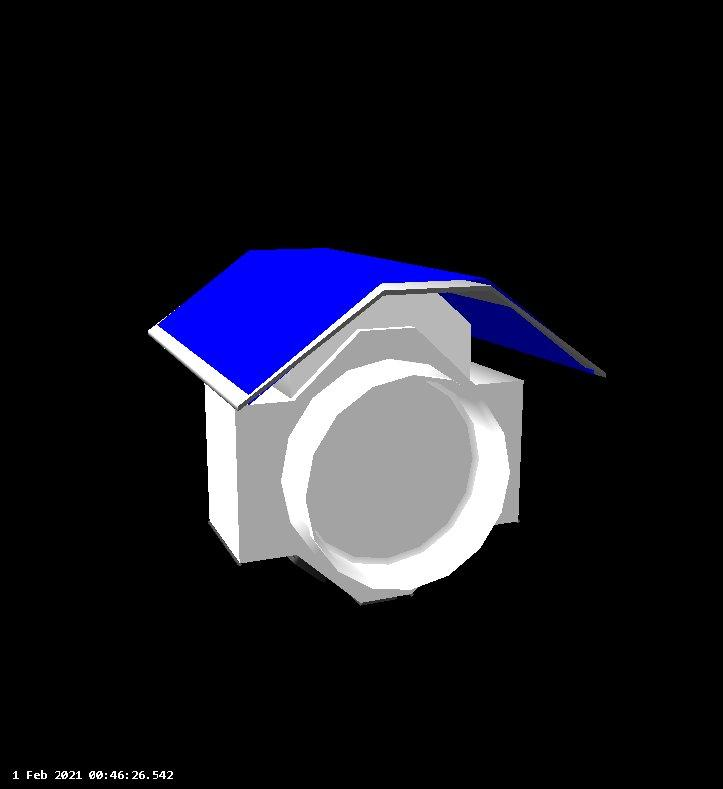body: (204, 281, 530, 609)
solar: (142, 246, 610, 413)
thruster: (282, 358, 511, 591)
